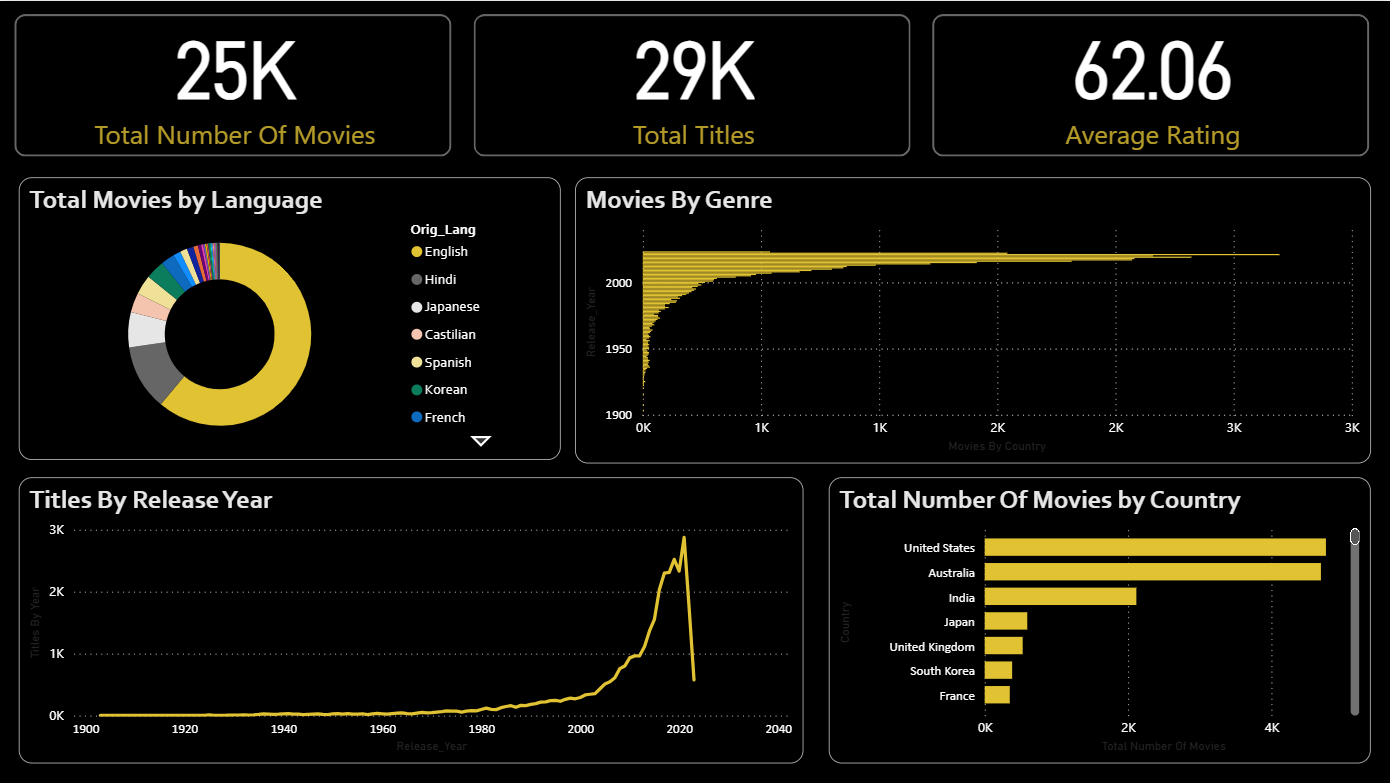

Layout of this report page (visuals, bound fields, positions):
{"tool":"powerbi","page":{"name":"Dashboard_1","canvas":[1280,720],"ordinal":0},"visuals":[{"type":"cardVisual","fields":{"Data":["Fact_table.Total_Movies","Fact_table.Total_titles","Fact_table.Average Rating"]},"box":[1.7,0,1270,155],"z":0},{"type":"donutChart","title":"Total Movies by Language","fields":{"Y":["Fact_table.Total Number Of Movies"],"Category":["Dim_Language.Language"]},"box":[16.7,161.7,498.3,260],"z":1000},{"type":"barChart","title":"Total Number Of Movies By Country","fields":{"Y":["Fact_table.Total Number Of Movies"],"Category":["Fact_table.Country"]},"box":[761.7,438.3,498.3,263.3],"z":2000},{"type":"lineChart","title":"Titles By Release Year","fields":{"Category":["Fact_table.Release_Year"],"Y":["Fact_table.Titles By Year"]},"box":[16.7,438.3,721.7,263.3],"z":3000},{"type":"barChart","title":"Movies By Genre","fields":{"Category":["Fact_table.Release_Year"],"Y":["Fact_table.Movies By Country"]},"box":[528.3,161.7,731.7,263.3],"z":4000}]}

Visuals, with their boxes in screenshot pixels (x1, y1, x2, y2), scaled from the page's 1280x720 canvas onto the 1390x783 screenshot:
cardVisual - Fact_table.Total_Movies x Fact_table.Total_titles: [left=2, top=0, right=1381, bottom=169]
"Total Movies by Language" donutChart: [left=18, top=176, right=559, bottom=459]
"Total Number Of Movies By Country" barChart: [left=827, top=477, right=1368, bottom=763]
"Titles By Release Year" lineChart: [left=18, top=477, right=802, bottom=763]
"Movies By Genre" barChart: [left=574, top=176, right=1368, bottom=462]
